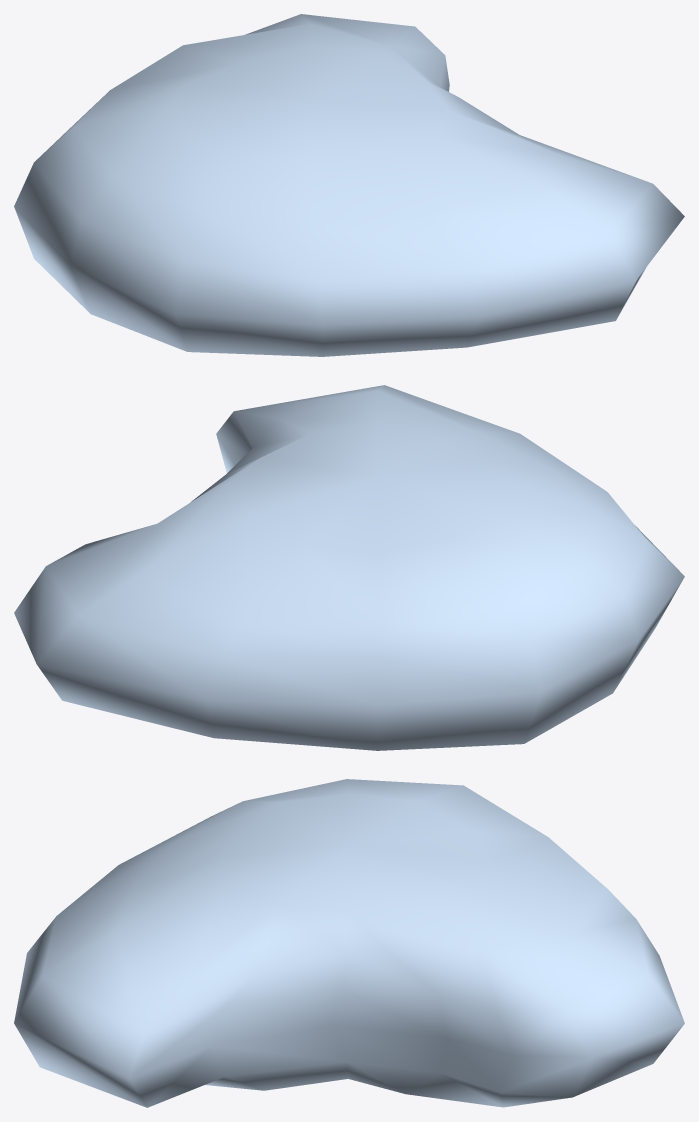
Rendered from hAsteroid4_coll.obj.
The picture shows the model from 3 angles, top to bottom: view 1: azimuth 30°, elevation 25°; view 2: azimuth 150°, elevation 25°; view 3: azimuth 270°, elevation 25°; orthographic projection. The views are drawn at different scales.
Parts seen in each view (by area): view 1: sphere2; view 2: sphere2; view 3: sphere2.
Boxes of the visible parts, x1,y1,x2,y2 form: sphere2: [14, 14, 684, 356]; sphere2: [14, 385, 684, 750]; sphere2: [14, 779, 684, 1107].
Size of the model in its own units: 205 by 66.3 by 232.
